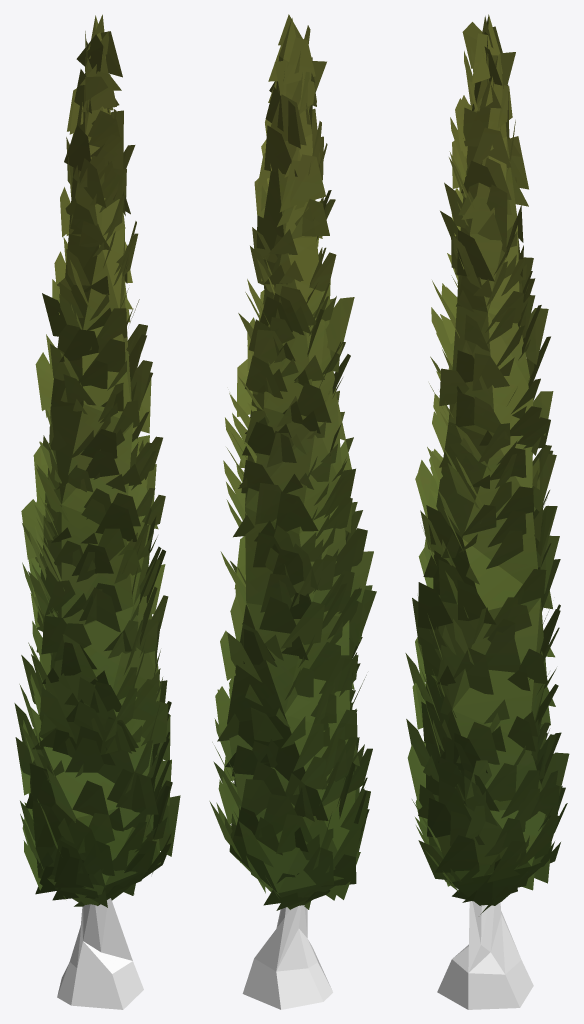
File: cypress-poly.glb
The picture shows the model from 3 angles, left to right: view 1: azimuth 30°, elevation 25°; view 2: azimuth 150°, elevation 25°; view 3: azimuth 270°, elevation 25°; orthographic projection.
Visible parts, largest first — view 1: tree-cypress-mediterranean-generic-mature-a.001; view 2: tree-cypress-mediterranean-generic-mature-a.001; view 3: tree-cypress-mediterranean-generic-mature-a.001.
Part boxes in pixels (left/top/right/bottom): tree-cypress-mediterranean-generic-mature-a.001: left=14, top=14, right=180, bottom=1009; tree-cypress-mediterranean-generic-mature-a.001: left=209, top=14, right=376, bottom=1009; tree-cypress-mediterranean-generic-mature-a.001: left=405, top=14, right=569, bottom=1009.
Bounding box in the file's own units: 1.07 × 7.17 × 1.09.
2 materials, 1 textured.
